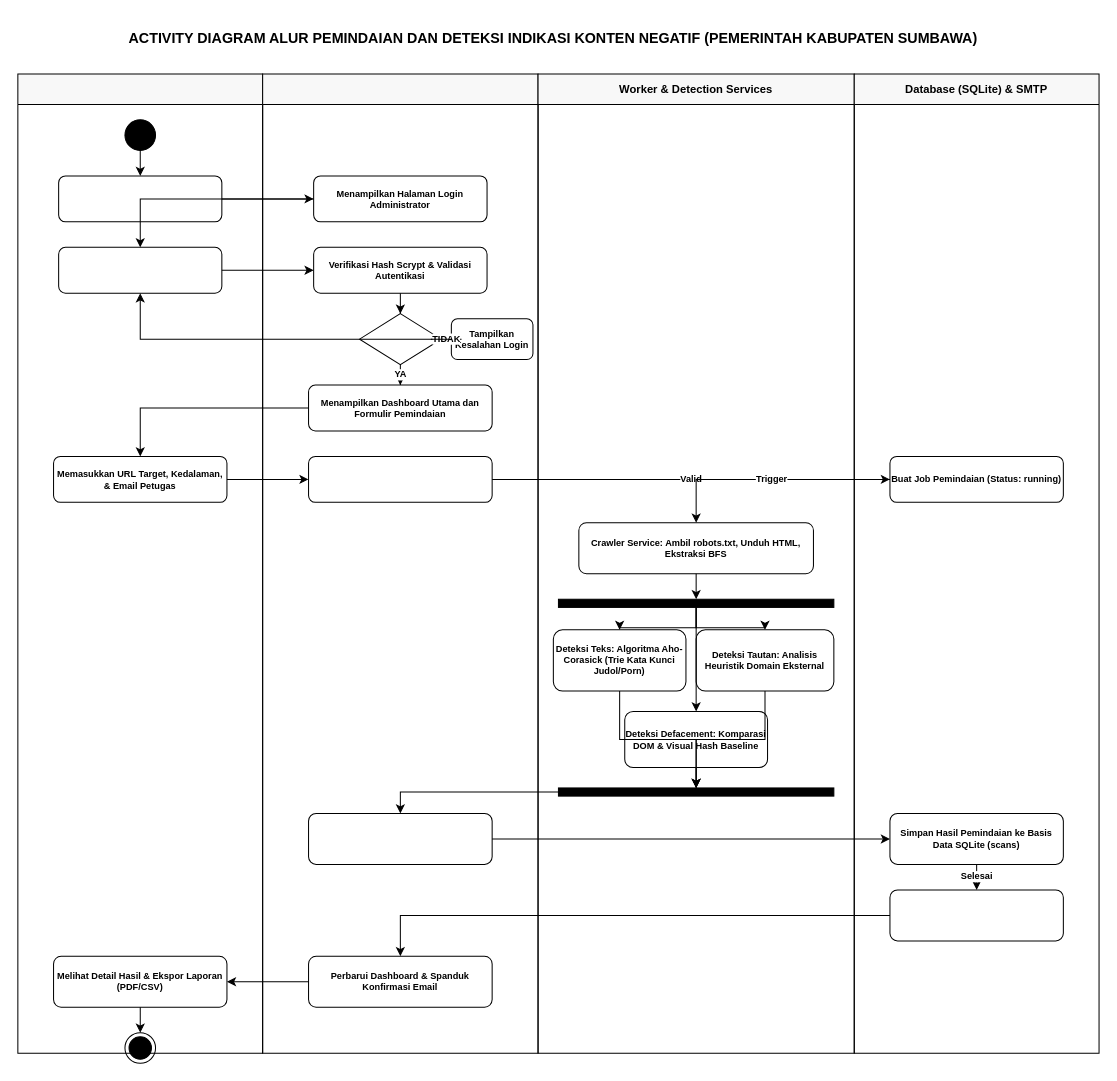
The diagram is 1117 pixels wide and 1081 high, and some of its shapes have lost their labels. The box of each missing label's shape, as (x1, y1, x2, y2) in pixels:
Aggregator Service & Dashboard: (262, 73, 538, 1053)
Aggregator: Mengumpulkan & Merekapitulasi Temuan: (308, 812, 492, 864)
Kirim Laporan Email Hasil via SMTP Server Gmail: (889, 889, 1063, 941)
Kredensial Valid?: (359, 313, 441, 365)
Memasukkan Nama Pengguna dan Kata Sandi: (58, 246, 222, 293)
Mengakses Antarmuka Sistem Pemantauan: (58, 175, 222, 222)
Petugas CSIRT / Admin: (17, 73, 263, 1053)
Validasi Parameter & Sintaks Email (RFC 5322): (308, 455, 492, 502)
